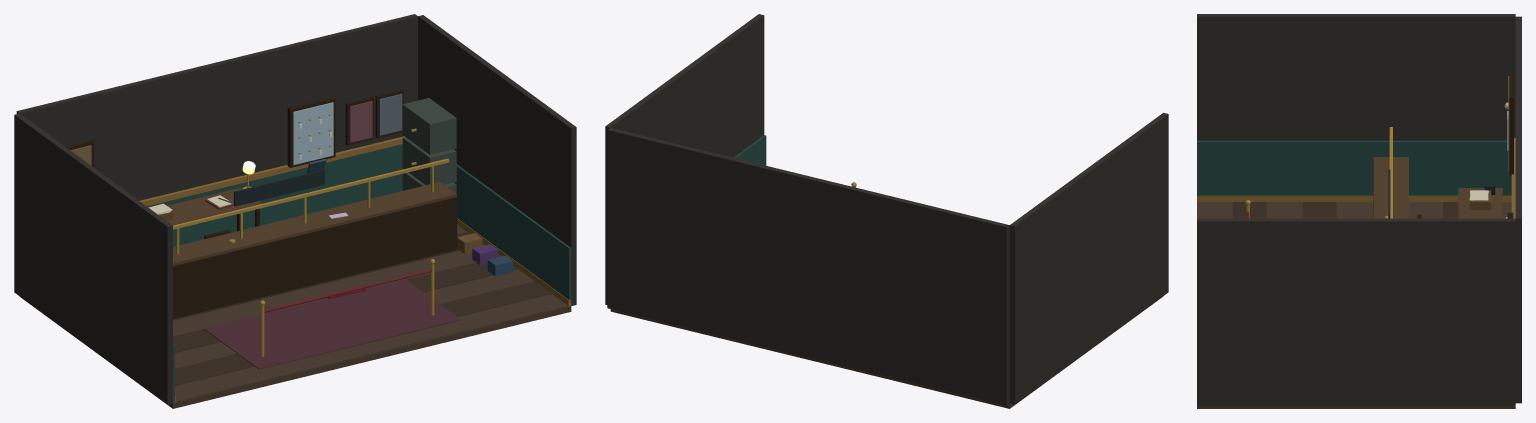
Rendered from boxoffice.glb.
The picture shows the model from 3 angles, left to right: view 1: azimuth 30°, elevation 25°; view 2: azimuth 150°, elevation 25°; view 3: azimuth 270°, elevation 25°; orthographic projection. The views are drawn at different scales.
Visible parts, largest first — view 1: WallBack, WallLeft, WallRight, CounterFront, BoRug, BandBack, BandRight, Plank0, CounterTop, Plank4, Plank1, Floor (+15 smaller); view 2: WallBack, WallLeft, WallRight, Floor, BandRight; view 3: WallRight, WallLeft, BandLeft, WallBack, CounterTop, SkirtLeft, Floor, BoDeskTop, Plank0, Plank2, Plank3, Plank4 (+4 smaller).
Part boxes in pixels (x1,y1,x2,y2): WallBack: [16, 14, 417, 200]; WallLeft: [14, 113, 172, 404]; WallRight: [418, 15, 576, 305]; CounterFront: [173, 197, 457, 319]; BoRug: [203, 279, 460, 369]; BandBack: [147, 144, 403, 246]; BandRight: [454, 164, 571, 299]; Plank0: [175, 294, 568, 402]; CounterTop: [173, 182, 456, 265]; Plank4: [173, 244, 500, 336]; Plank1: [175, 281, 551, 385]; Floor: [19, 296, 571, 408]; WallBack: [607, 128, 1009, 405]; WallLeft: [1009, 112, 1168, 404]; WallRight: [605, 14, 764, 304]; Floor: [610, 296, 1162, 408]; BandRight: [733, 135, 766, 165]; WallRight: [1197, 218, 1515, 405]; WallLeft: [1197, 14, 1515, 140]; BandLeft: [1197, 140, 1511, 195]; WallBack: [1515, 16, 1521, 403]; CounterTop: [1373, 157, 1408, 218]; SkirtLeft: [1197, 195, 1511, 202]; Floor: [1197, 202, 1515, 408]; BoDeskTop: [1458, 188, 1502, 218]; Plank0: [1197, 202, 1231, 218]; Plank2: [1267, 202, 1301, 218]; Plank3: [1302, 202, 1336, 218]; Plank4: [1338, 202, 1371, 218].
Size of the model in its own units: 7.7 by 3.3 by 5.1.
